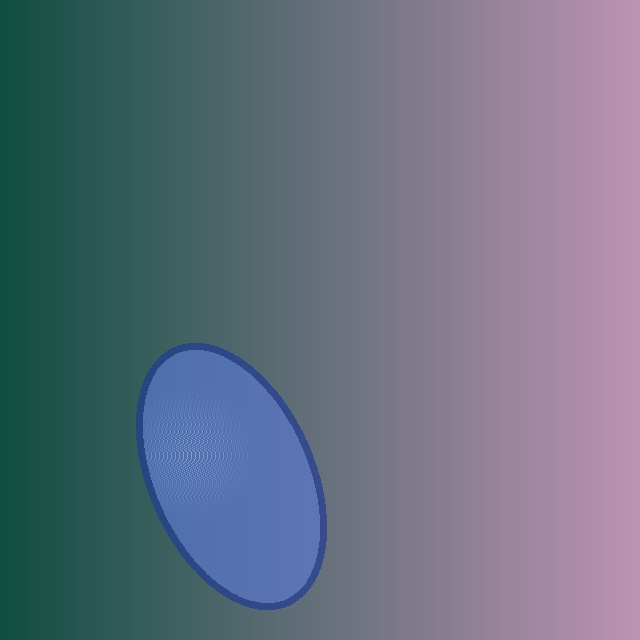lens: (140, 346, 322, 606)
